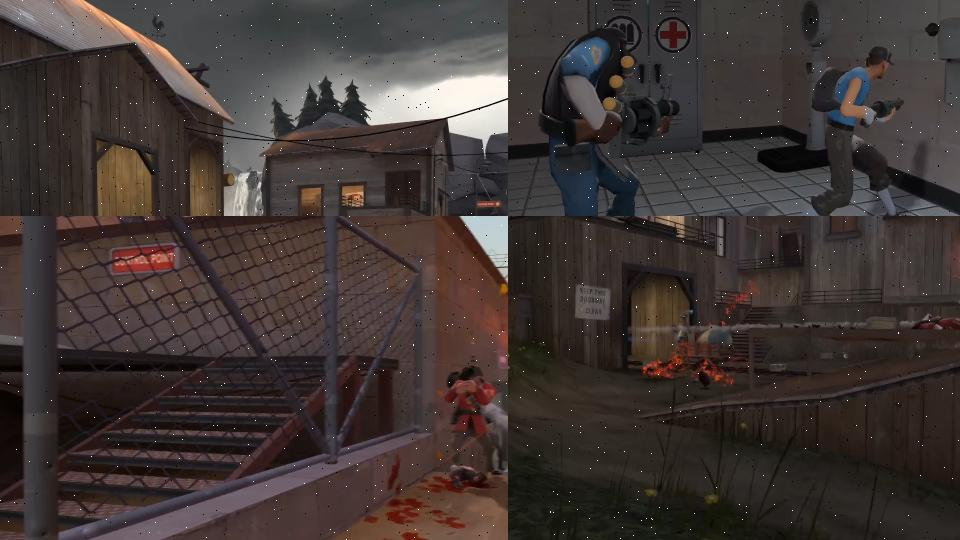Enemy: (520, 27, 681, 216), (781, 45, 912, 216), (442, 363, 498, 470), (909, 312, 960, 331)
